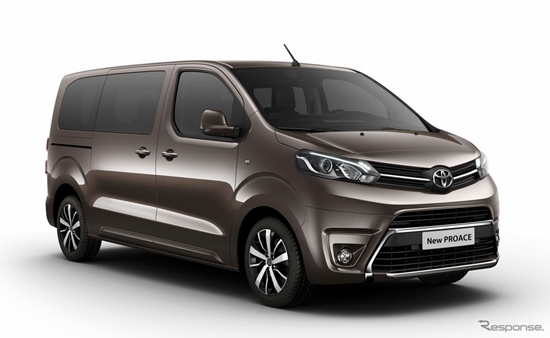van: (43, 57, 501, 309)
